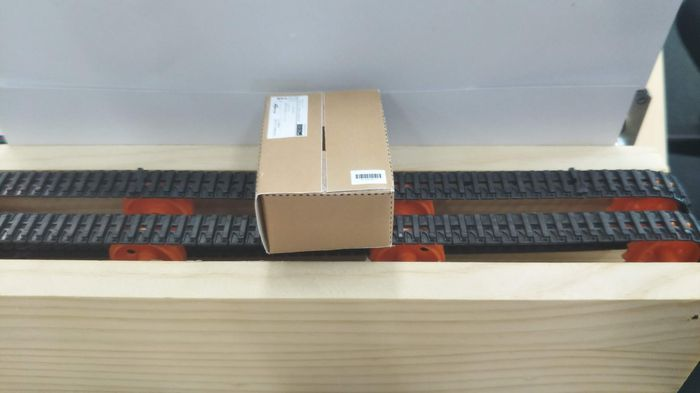box1: (251, 86, 397, 256)
